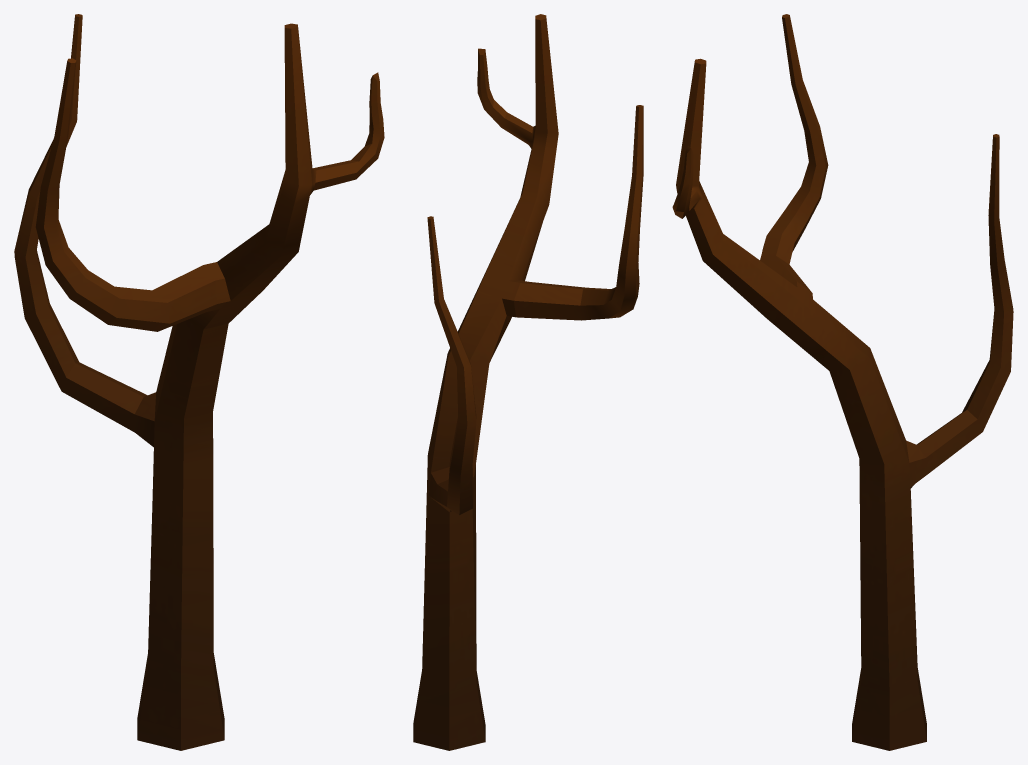
File: tree.fbx
3 renders of one model, left to right at view 1: azimuth 30°, elevation 25°; view 2: azimuth 150°, elevation 25°; view 3: azimuth 270°, elevation 25°, orthographic. The views are drawn at different scales.
Parts seen in each view (by area): view 1: Tree1; view 2: Tree1; view 3: Tree1.
Boxes of the visible parts, box(x1,y1,x2,y2) form: Tree1: box(14, 14, 384, 750); Tree1: box(413, 14, 643, 750); Tree1: box(672, 14, 1013, 750).
Bounding box in the file's own units: 8.19 × 22.81 × 10.5.
